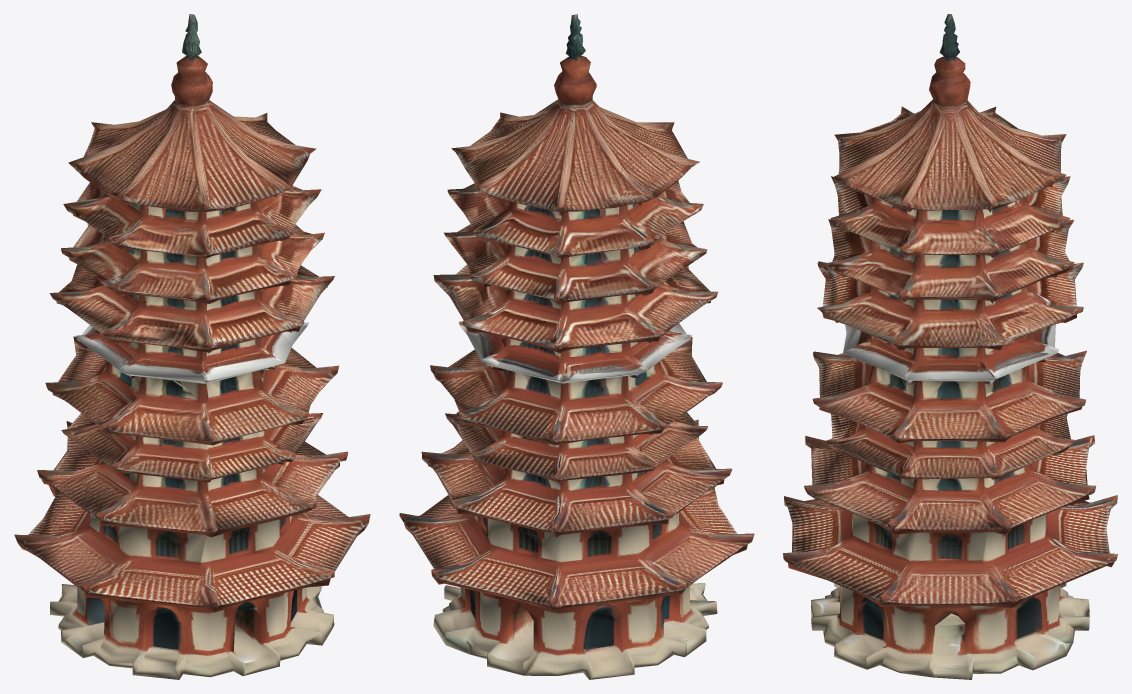
The model's file is pagoda.glb.
The picture shows the model from 3 angles, left to right: view 1: azimuth 30°, elevation 25°; view 2: azimuth 150°, elevation 25°; view 3: azimuth 270°, elevation 25°; orthographic projection.
Bounding box in the file's own units: 0.946 × 1.89 × 0.9474.
Materials: 1 (1 with a texture image).
